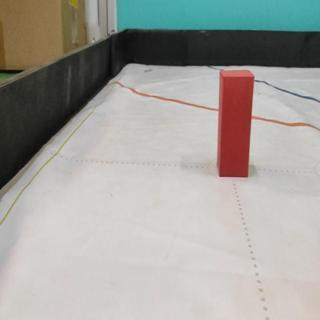redbox: (217, 68, 254, 178)
